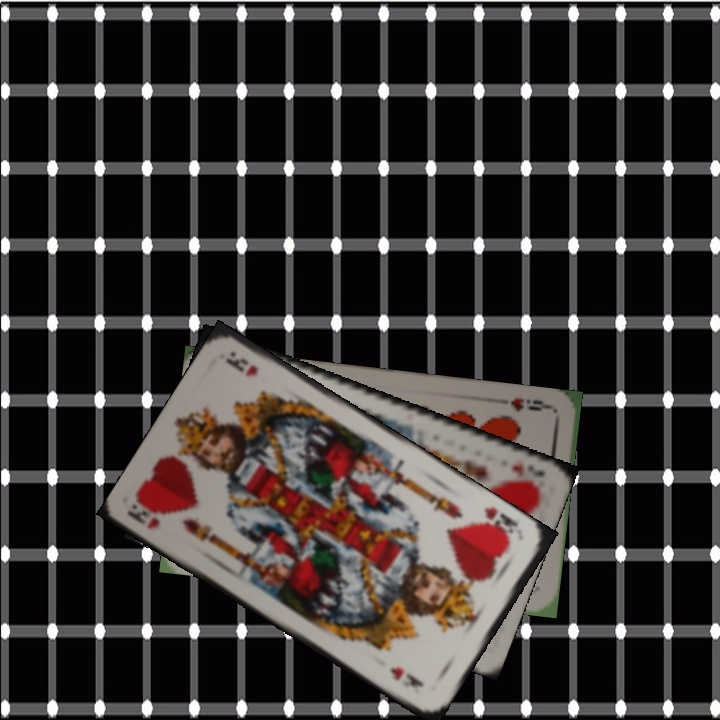H9: (506, 394, 555, 414)
HK: (474, 502, 521, 544), (125, 498, 163, 532), (507, 459, 549, 480)
